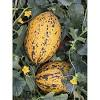Melon: (23, 12, 62, 64)
